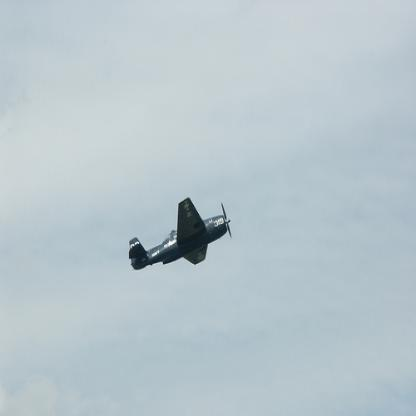aeroplane: (129, 197, 233, 270)
